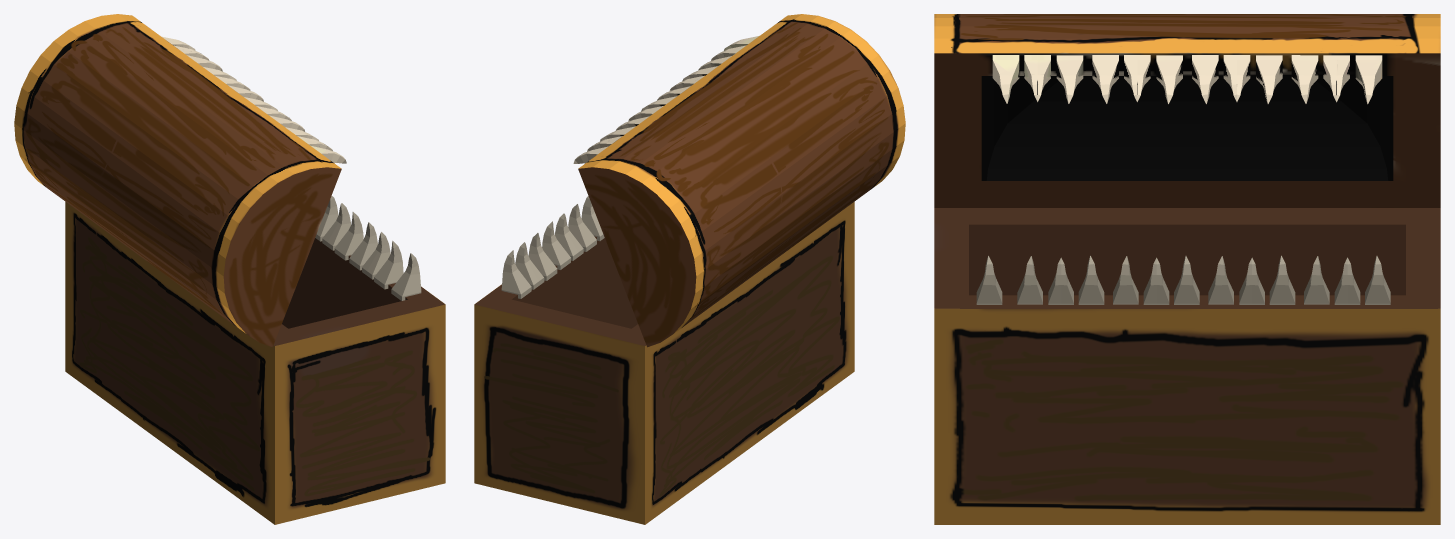
File: Mimic.fbx
The picture shows the model from 3 angles, left to right: view 1: azimuth 30°, elevation 25°; view 2: azimuth 150°, elevation 25°; view 3: azimuth 270°, elevation 25°; orthographic projection. The views are drawn at different scales.
Parts seen in each view (by area): view 1: Cube, Cylinder, Cube.001, Cube.003, Cube.002; view 2: Cube, Cylinder, Cube.001; view 3: Cube, Cylinder, Cube.001, Cube.002, Cube.003.
Boxes of the visible parts, x1,y1,x2,y2 form: Cube: (65, 202, 445, 524); Cylinder: (14, 14, 346, 347); Cube.001: (315, 195, 403, 289); Cube.003: (391, 253, 421, 300); Cube.002: (349, 222, 377, 270); Cube: (474, 202, 854, 524); Cylinder: (573, 14, 905, 347); Cube.001: (501, 196, 604, 298); Cube: (934, 208, 1440, 524); Cylinder: (934, 14, 1440, 207); Cube.001: (1017, 255, 1390, 304); Cube.002: (1078, 255, 1104, 304); Cube.003: (976, 255, 1002, 304).
Size of the model in its own units: 217 by 324 by 355.
Materials: 5 (5 with a texture image).
